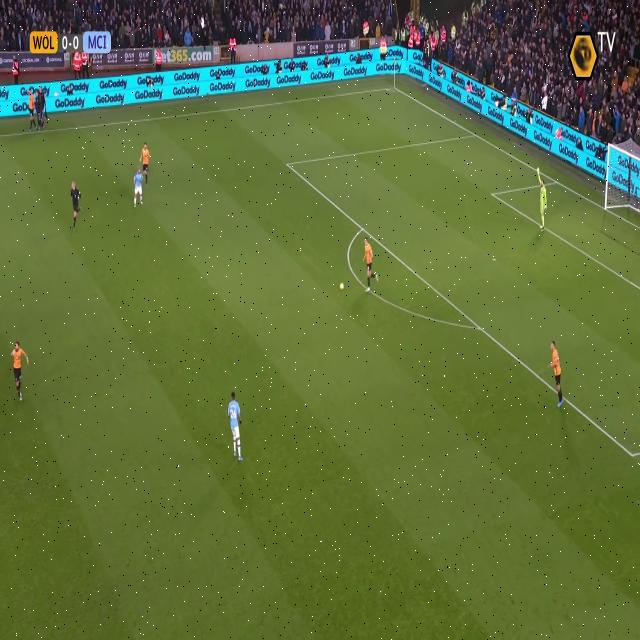Ball: (338, 281, 347, 293)
GoalKeeper: (532, 164, 552, 237)
TEAM 1: (544, 332, 566, 418), (13, 342, 29, 402), (359, 237, 376, 290), (141, 141, 151, 182)
TEAM 2: (226, 392, 244, 463), (133, 168, 147, 208)
